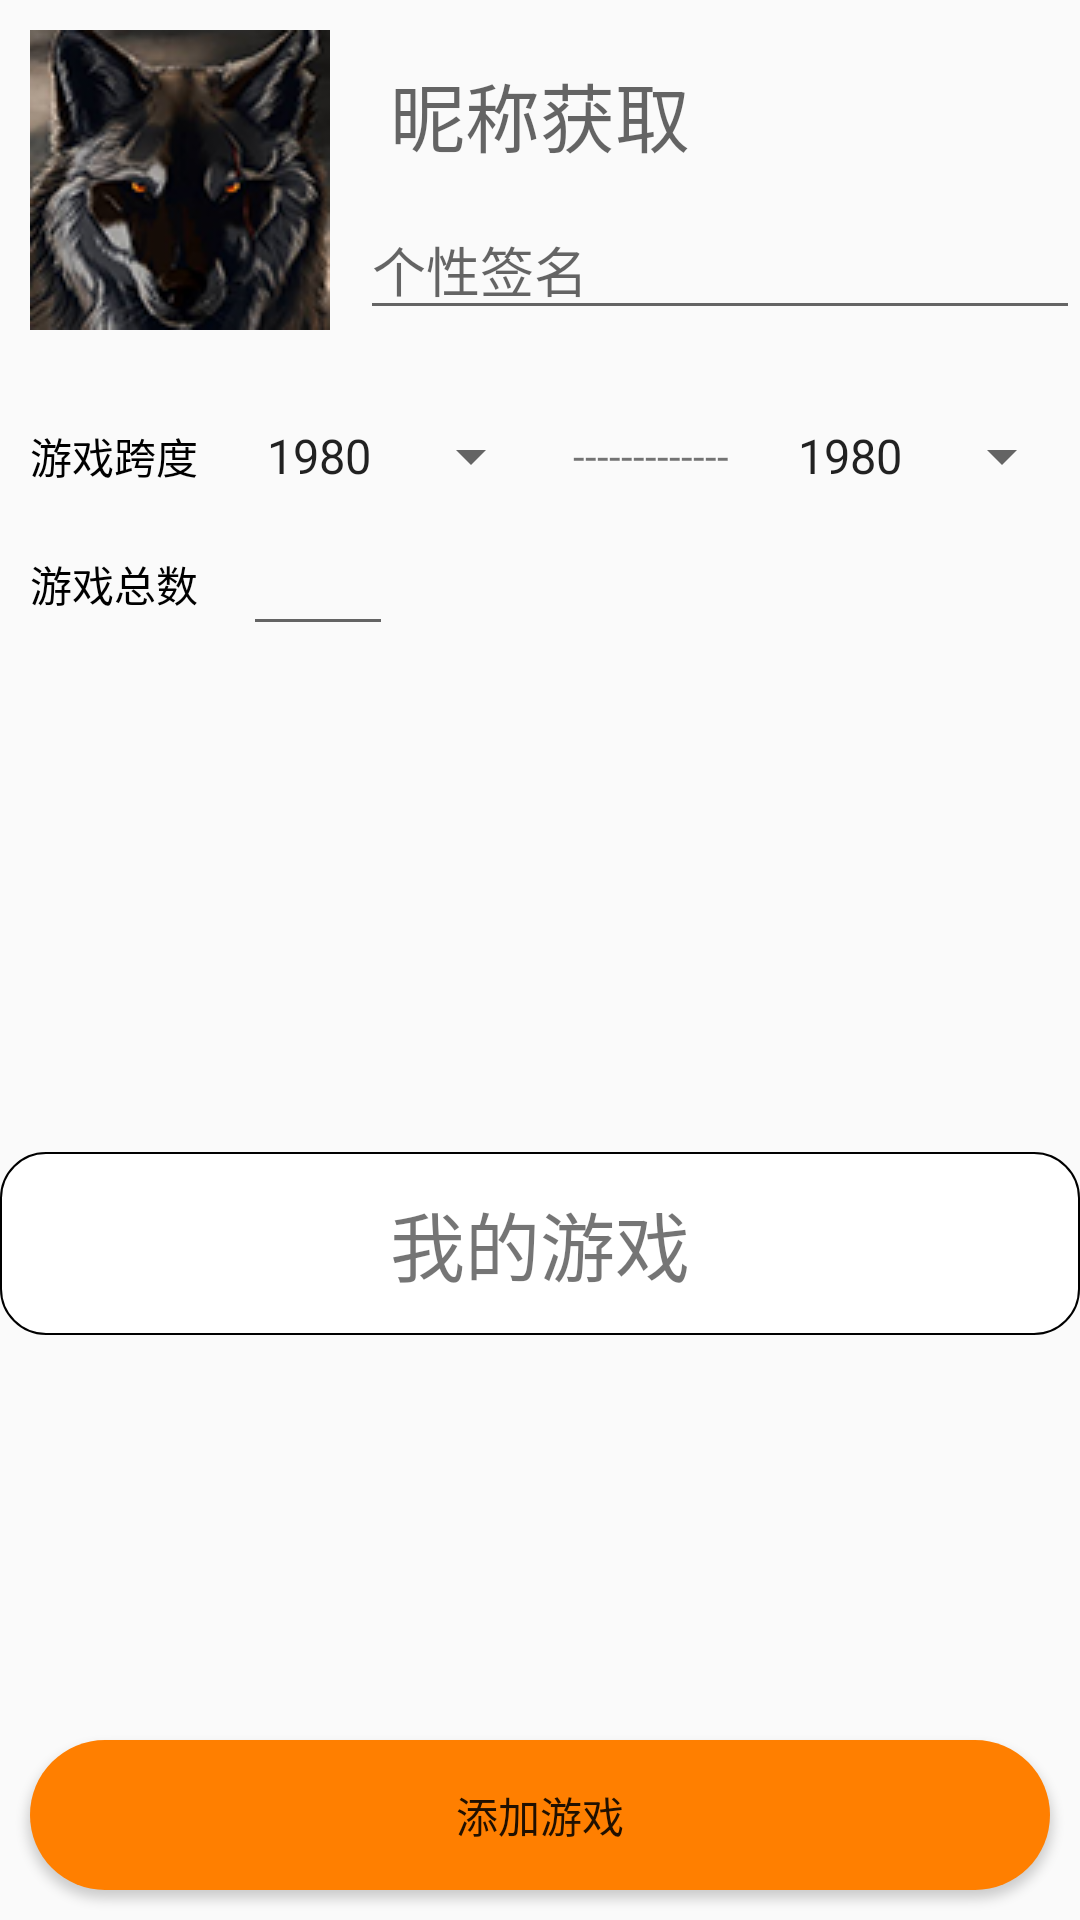

Icons on this 1080×1920 Android screen, each with its box as (x1, y1, x2, y2):
head: (30, 30, 330, 330)
